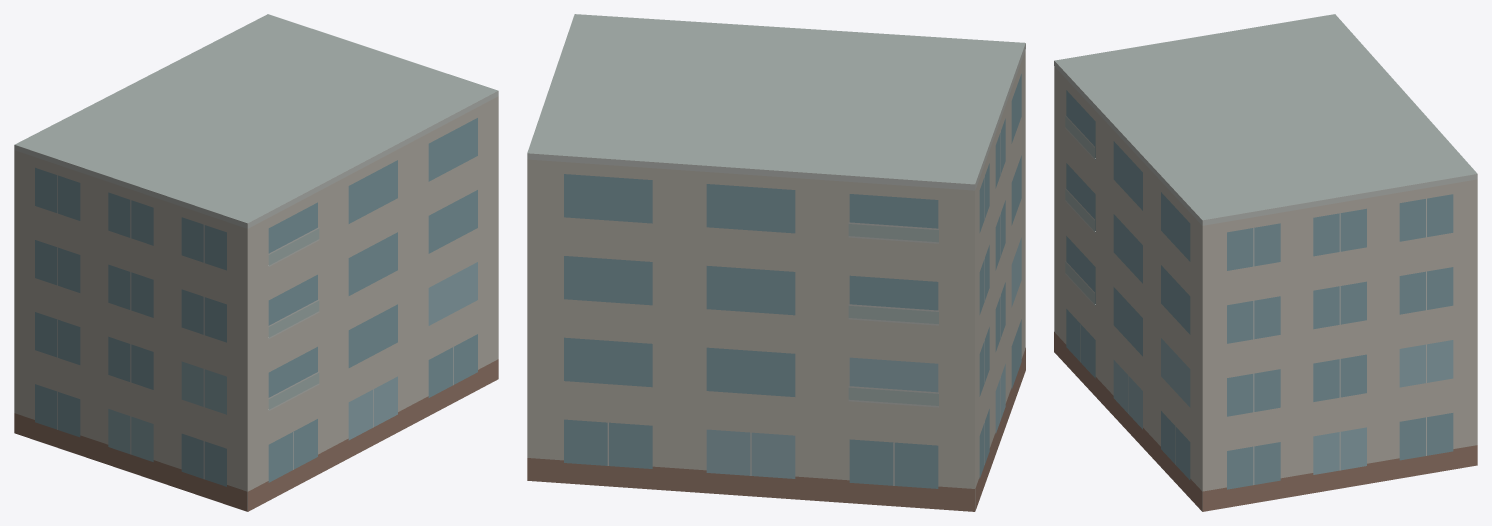
File: survey-upis-32904558.glb
The picture shows the model from 3 angles, left to right: view 1: azimuth 30°, elevation 25°; view 2: azimuth 150°, elevation 25°; view 3: azimuth 270°, elevation 25°; orthographic projection. The views are drawn at different scales.
Visible parts, largest first — view 1: survey-upis-32904558.tmp; view 2: survey-upis-32904558.tmp; view 3: survey-upis-32904558.tmp.
Boxes of the visible parts, x1,y1,x2,y2 form: survey-upis-32904558.tmp: (14, 14, 498, 511); survey-upis-32904558.tmp: (527, 14, 1025, 511); survey-upis-32904558.tmp: (1054, 14, 1477, 511).
Size of the model in its own units: 19.67 by 12.95 by 17.06.
